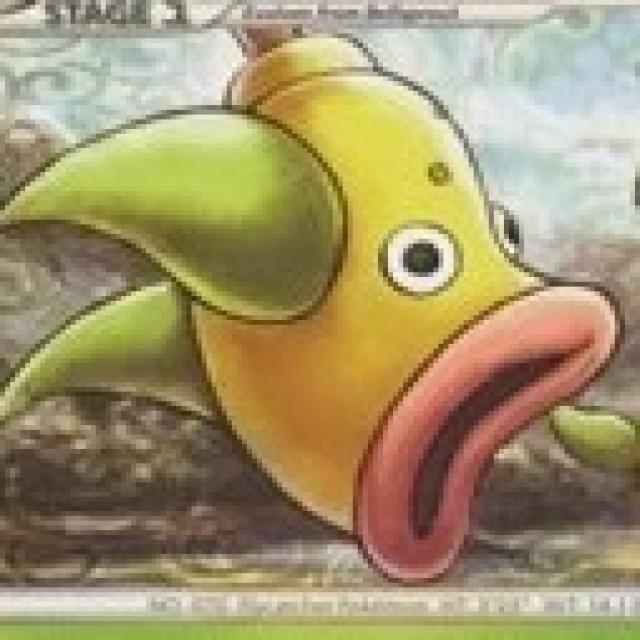Weepinbell: (111, 47, 598, 598)
